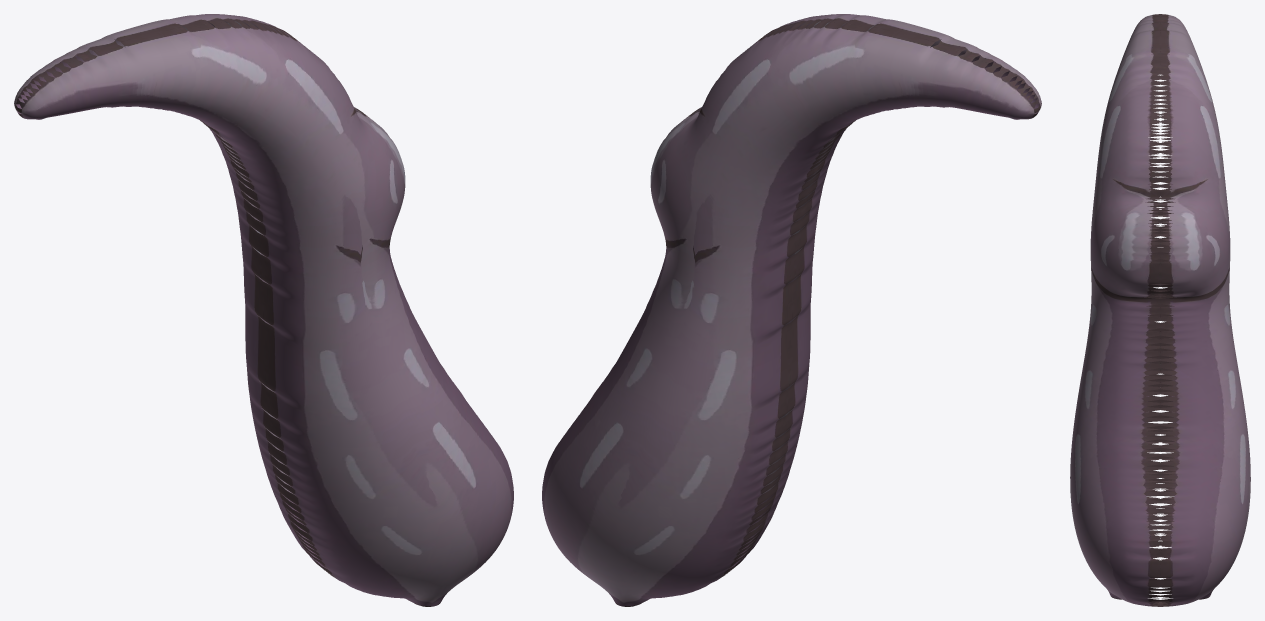
File: purple_tendril.glb
3 renders of one model, left to right at view 1: azimuth 30°, elevation 25°; view 2: azimuth 150°, elevation 25°; view 3: azimuth 270°, elevation 25°, orthographic. The views are drawn at different scales.
Parts seen in each view (by area): view 1: purple_tendril; view 2: purple_tendril; view 3: purple_tendril.
Boxes of the visible parts, left/top/right/bottom form: purple_tendril: left=14, top=14, right=513, bottom=606; purple_tendril: left=542, top=14, right=1041, bottom=606; purple_tendril: left=1070, top=14, right=1250, bottom=606.
Bounding box in the file's own units: 0.9864 × 1.2 × 0.4244.
Materials: 1 (1 with a texture image).
